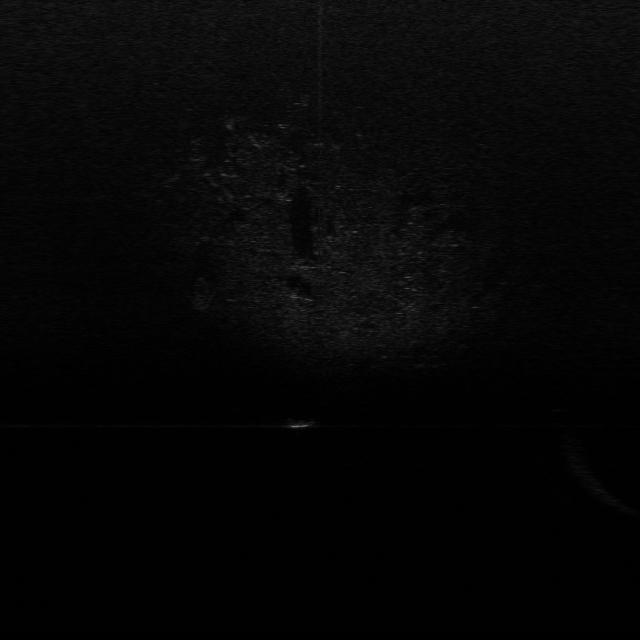square cage: (284, 416, 317, 432)
